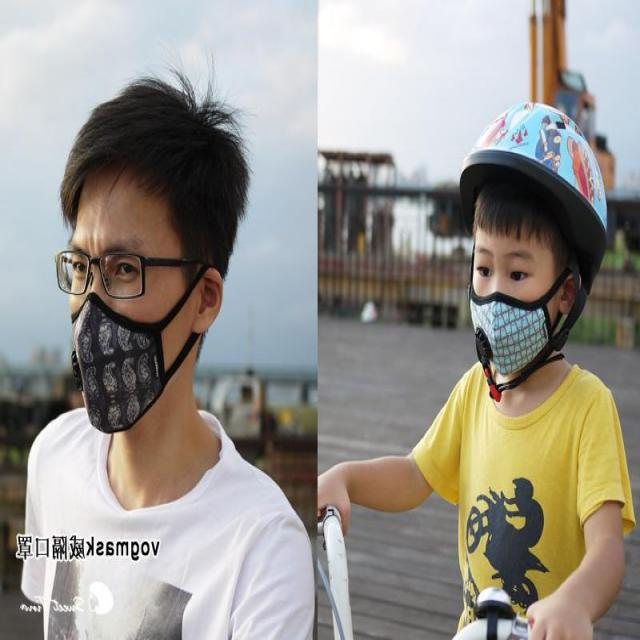face: (66, 163, 202, 437), (468, 217, 563, 378)
